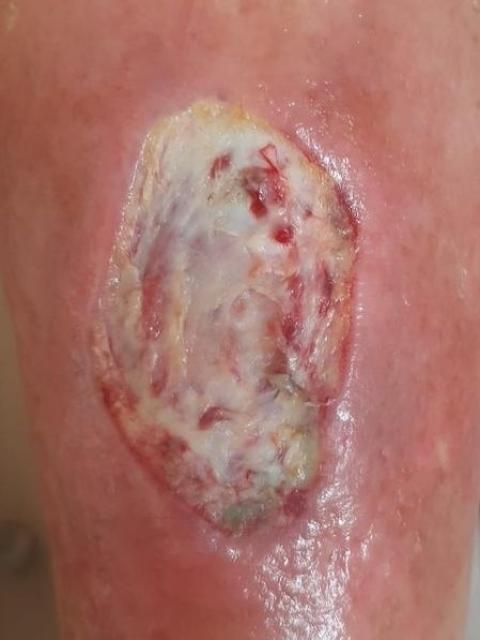wound: (90, 95, 367, 547)
